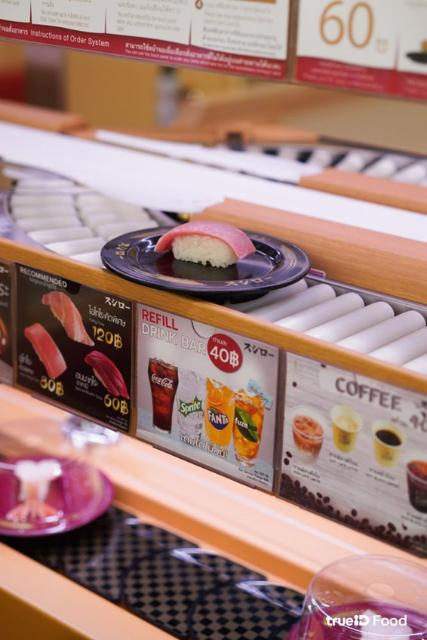janback: (96, 225, 313, 309)
janred: (286, 562, 427, 640), (0, 474, 102, 555)
